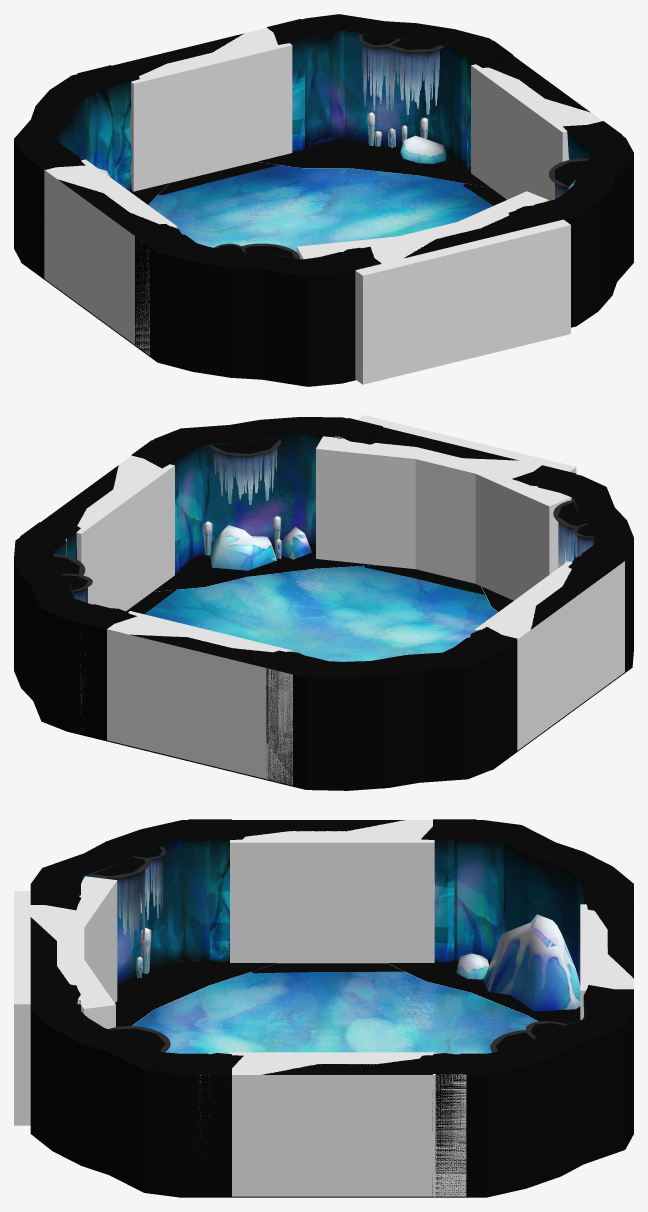
File: Dungeon_072_StartRoom_001_003.fbx
3 views of the same model, one above another, from view 1: azimuth 30°, elevation 25°; view 2: azimuth 150°, elevation 25°; view 3: azimuth 270°, elevation 25° (orthographic). The views are drawn at different scales.
Parts seen in each view (by area): view 1: Dun_072_StartRoom_001_wall, DoorWay_NavMask (1) (×3), DoorWay_NavMask (3) (×3), Dun_072_StartRoom_001_ground, Dun_072_Door_002 (×4), Dun_072_OB_Icicle, Dun_072_StartRoom_001_shadow, DoorWay_NavMask (2) (×4), DoorWay_NavMask (4), Dun_072_Door_002_shadow, Dun_072_OB_Stone01, Dun_072_OB_Ice_crystals01; view 2: Dun_072_StartRoom_001_wall, DoorWay_NavMask (3) (×4), DoorWay_NavMask (1) (×4), Dun_072_StartRoom_001_ground, Dun_072_Door_002 (×4), DoorWay_NavMask (4), DoorWay_NavMask (2) (×4), Dun_072_OB_Icicle, Dun_072_StartRoom_001_shadow, Dun_072_OB_Stone02, Dun_072_Door_002_shadow, Dun_072_OB_Stone01 (+1 smaller); view 3: Dun_072_StartRoom_001_wall, DoorWay_NavMask (1) (×4), DoorWay_NavMask (3) (×4), Dun_072_StartRoom_001_ground, Dun_072_Door_002 (×4), Dun_072_StartRoom_001_shadow, Dun_072_OB_Stone02, DoorWay_NavMask (2) (×4), Dun_072_OB_Icicle, DoorWay_NavMask (4), Dun_072_Door_002_shadow, Dun_072_OB_Stone01 (+1 smaller).
Boxes of the visible parts, x1=… form: Dun_072_StartRoom_001_wall: x1=14, y1=14, x2=633, y2=386; DoorWay_NavMask (1) (×3): x1=44, y1=29, x2=569, y2=336; DoorWay_NavMask (3) (×3): x1=45, y1=28, x2=570, y2=384; Dun_072_StartRoom_001_ground: x1=20, y1=165, x2=493, y2=262; Dun_072_Door_002 (×4): x1=26, y1=19, x2=622, y2=345; Dun_072_OB_Icicle: x1=214, y1=34, x2=588, y2=258; Dun_072_StartRoom_001_shadow: x1=130, y1=139, x2=490, y2=204; DoorWay_NavMask (2) (×4): x1=60, y1=33, x2=588, y2=259; DoorWay_NavMask (4): x1=445, y1=191, x2=548, y2=233; Dun_072_Door_002_shadow: x1=159, y1=162, x2=278, y2=194; Dun_072_OB_Stone01: x1=400, y1=135, x2=446, y2=163; Dun_072_OB_Ice_crystals01: x1=367, y1=112, x2=428, y2=147; Dun_072_StartRoom_001_wall: x1=14, y1=417, x2=633, y2=790; DoorWay_NavMask (3) (×4): x1=80, y1=415, x2=624, y2=785; DoorWay_NavMask (1) (×4): x1=76, y1=443, x2=572, y2=779; Dun_072_StartRoom_001_ground: x1=144, y1=565, x2=517, y2=770; Dun_072_Door_002 (×4): x1=20, y1=418, x2=629, y2=779; DoorWay_NavMask (4): x1=316, y1=436, x2=439, y2=569; DoorWay_NavMask (2) (×4): x1=116, y1=459, x2=571, y2=635; Dun_072_OB_Icicle: x1=54, y1=439, x2=593, y2=602; Dun_072_StartRoom_001_shadow: x1=153, y1=543, x2=513, y2=611; Dun_072_OB_Stone02: x1=210, y1=525, x2=383, y2=788; Dun_072_Door_002_shadow: x1=364, y1=565, x2=484, y2=594; Dun_072_OB_Stone01: x1=282, y1=527, x2=311, y2=559; Dun_072_StartRoom_001_wall: x1=30, y1=820, x2=633, y2=1197; DoorWay_NavMask (1) (×4): x1=30, y1=820, x2=633, y2=1196; DoorWay_NavMask (3) (×4): x1=14, y1=820, x2=633, y2=1196; Dun_072_StartRoom_001_ground: x1=132, y1=971, x2=538, y2=1197; Dun_072_Door_002 (×4): x1=30, y1=819, x2=633, y2=1197; Dun_072_StartRoom_001_shadow: x1=115, y1=960, x2=580, y2=1026; Dun_072_OB_Stone02: x1=483, y1=914, x2=580, y2=1011; DoorWay_NavMask (2) (×4): x1=79, y1=822, x2=627, y2=1072; Dun_072_OB_Icicle: x1=88, y1=846, x2=567, y2=1052; DoorWay_NavMask (4): x1=60, y1=950, x2=115, y2=1028; Dun_072_Door_002_shadow: x1=251, y1=963, x2=404, y2=973; Dun_072_OB_Stone01: x1=456, y1=953, x2=489, y2=979.
Size of what is drawn, in the model's own units: 9 by 2.05 by 9.25.
